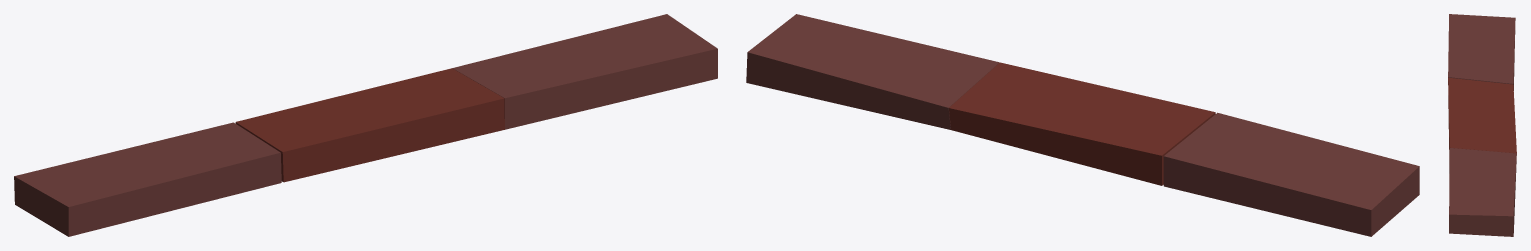
The model's file is WallUp.fbx.
3 views of the same model, side by side, from view 1: azimuth 30°, elevation 25°; view 2: azimuth 150°, elevation 25°; view 3: azimuth 270°, elevation 25° (orthographic). The views are drawn at different scales.
Parts seen in each view (by area): view 1: Cube, Cube.023, Cube.024; view 2: Cube, Cube.023, Cube.024; view 3: Cube.024, Cube.023, Cube.
Part boxes in pixels (x1,y1,x2,y2): Cube: (14, 122, 281, 236); Cube.023: (235, 68, 504, 182); Cube.024: (452, 14, 717, 129); Cube: (1163, 112, 1419, 236); Cube.023: (949, 62, 1215, 185); Cube.024: (746, 14, 999, 129); Cube.024: (1449, 148, 1516, 236); Cube.023: (1448, 77, 1516, 164); Cube: (1448, 14, 1515, 90).
Bounding box in the file's own units: 126 × 7.42 × 18.24.
